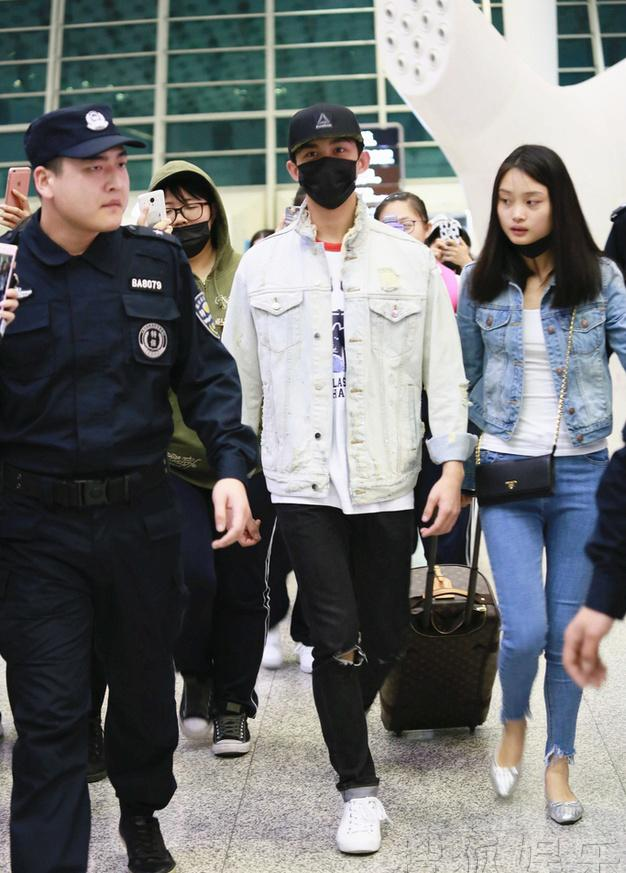face: (58, 133, 128, 231), (497, 172, 550, 246)
face_mask: (298, 124, 355, 208), (157, 184, 205, 252), (379, 202, 421, 266)
